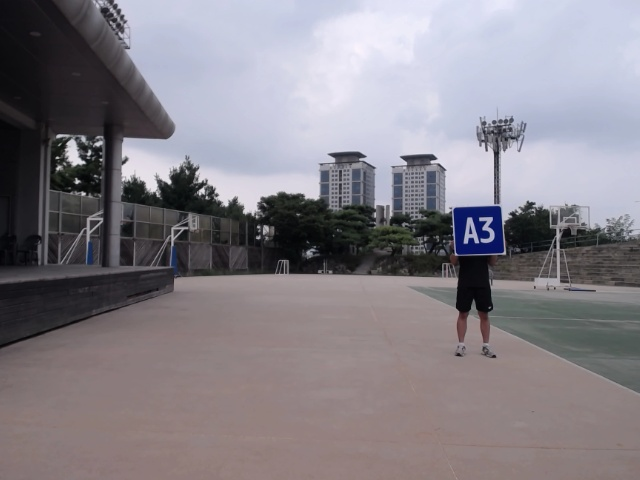delivery_a3: (453, 205, 506, 256)
